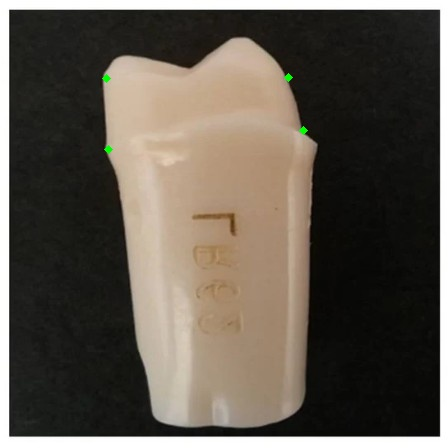coin_1: (303, 130, 323, 150)
coin_2: (288, 77, 308, 97)
coin_3: (108, 149, 128, 169)
coin_4: (106, 78, 126, 98)
